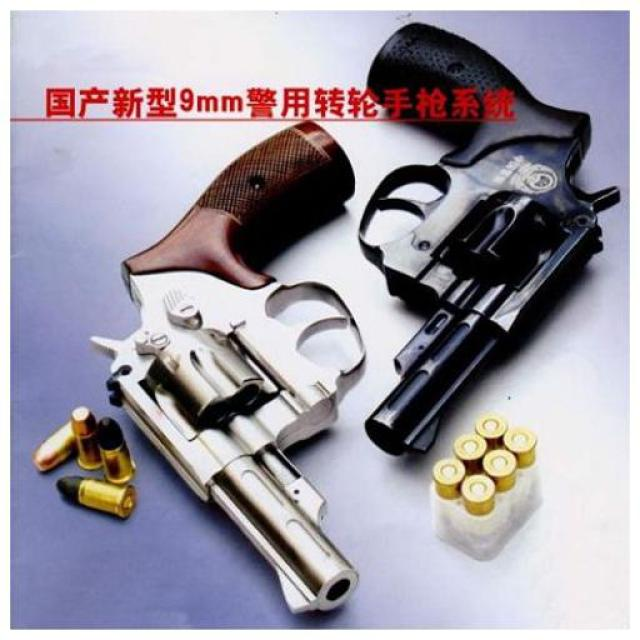pistol: (89, 115, 364, 617), (357, 21, 621, 456)
